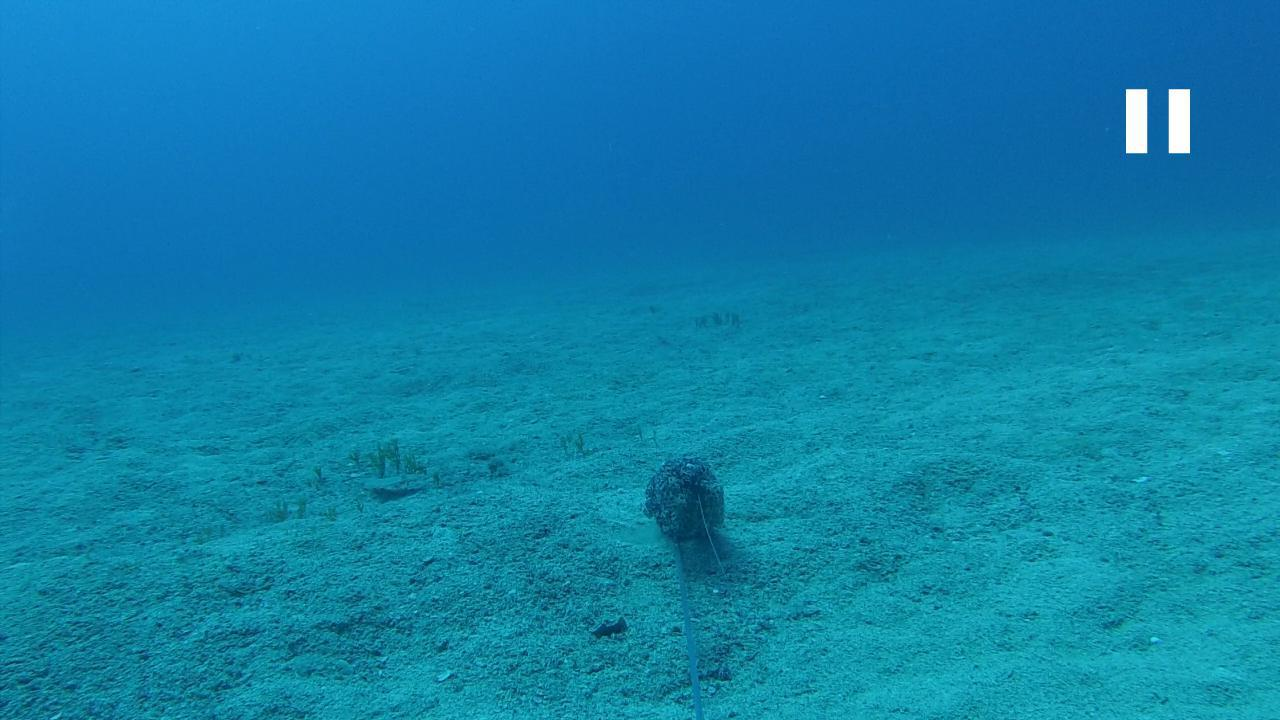bothus: (358, 468, 435, 492)
